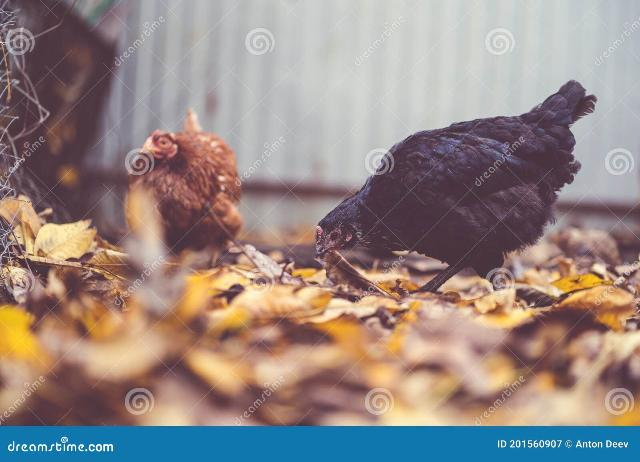Chicken: (315, 77, 597, 293), (127, 109, 241, 267)
